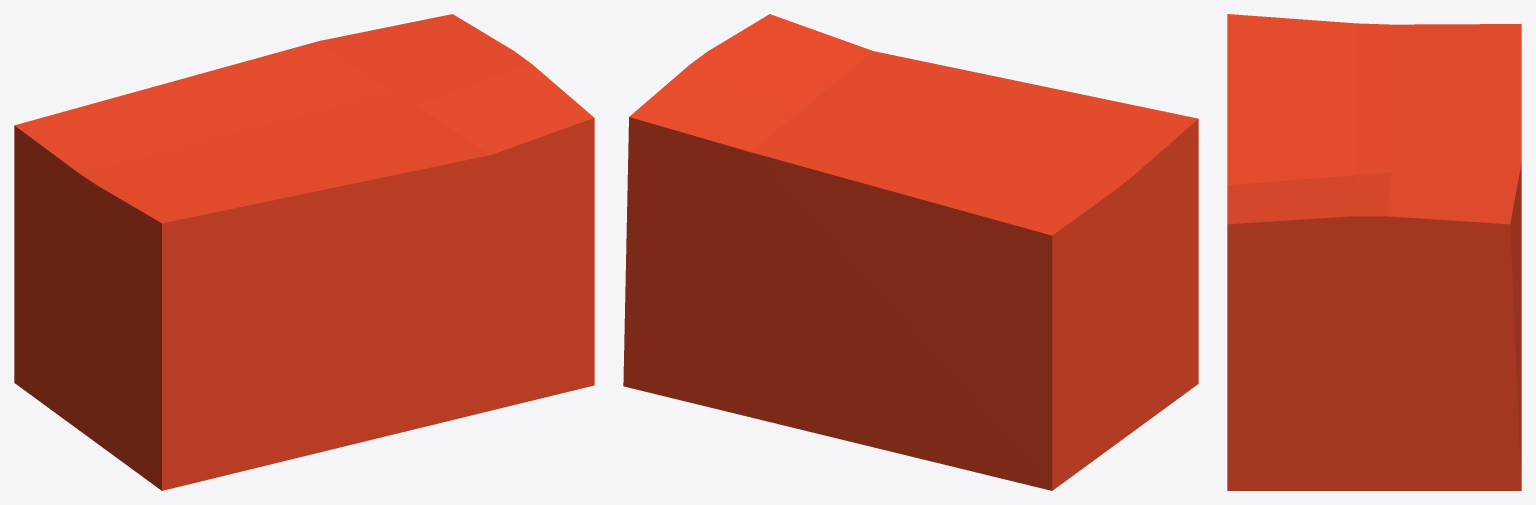
The model's file is SM_Box_B_City.fbx.
3 renders of one model, left to right at view 1: azimuth 30°, elevation 25°; view 2: azimuth 150°, elevation 25°; view 3: azimuth 270°, elevation 25°, orthographic.
Visible parts, largest first — view 1: SM_Box_B_City; view 2: SM_Box_B_City; view 3: SM_Box_B_City.
Part boxes in pixels (left/top/right/bottom): SM_Box_B_City: left=14, top=14, right=594, bottom=490; SM_Box_B_City: left=623, top=14, right=1198, bottom=490; SM_Box_B_City: left=1227, top=14, right=1521, bottom=490.
Size of the model in its own units: 0.6938 by 0.4223 by 0.41.
